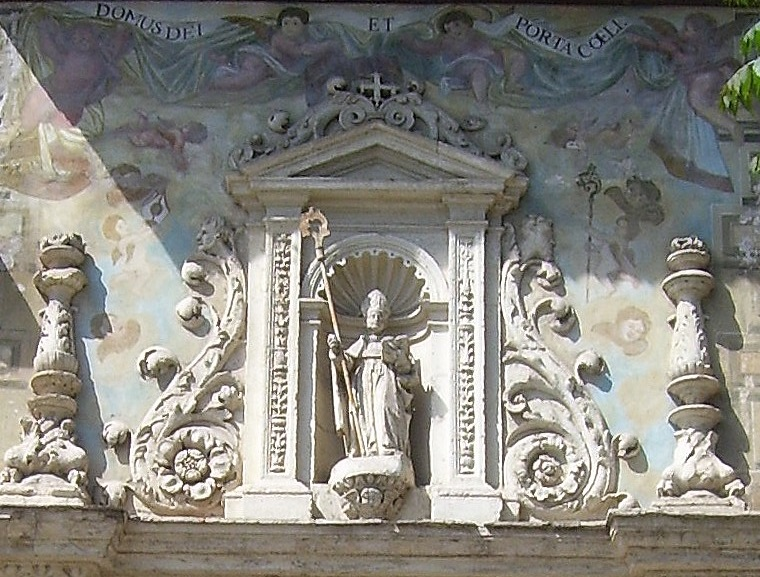fronton: (217, 107, 516, 207)
